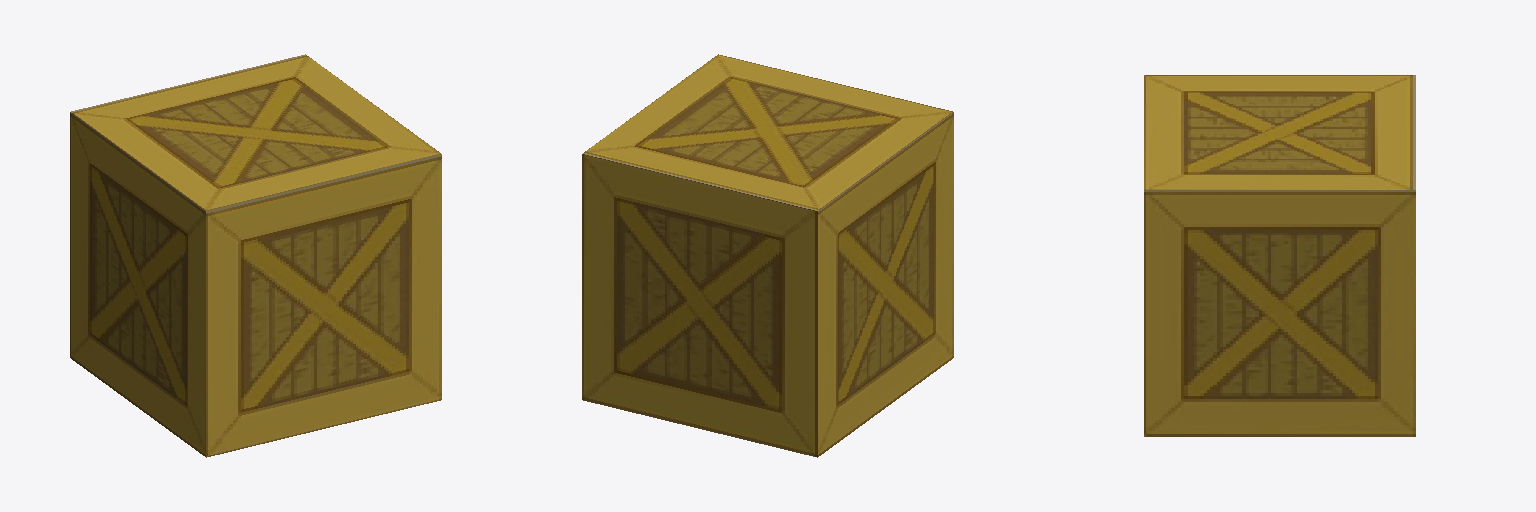
3 renders of one model, left to right at view 1: azimuth 30°, elevation 25°; view 2: azimuth 150°, elevation 25°; view 3: azimuth 270°, elevation 25°, orthographic.
Visible parts, largest first — view 1: pCube1; view 2: pCube1; view 3: pCube1.
Boxes of the visible parts, box(x1,y1,x2,y2) form: pCube1: box(70, 54, 441, 457); pCube1: box(582, 54, 953, 457); pCube1: box(1144, 75, 1415, 436).
Bounding box in the file's own units: 1 × 1 × 1.
1 materials, 1 textured.